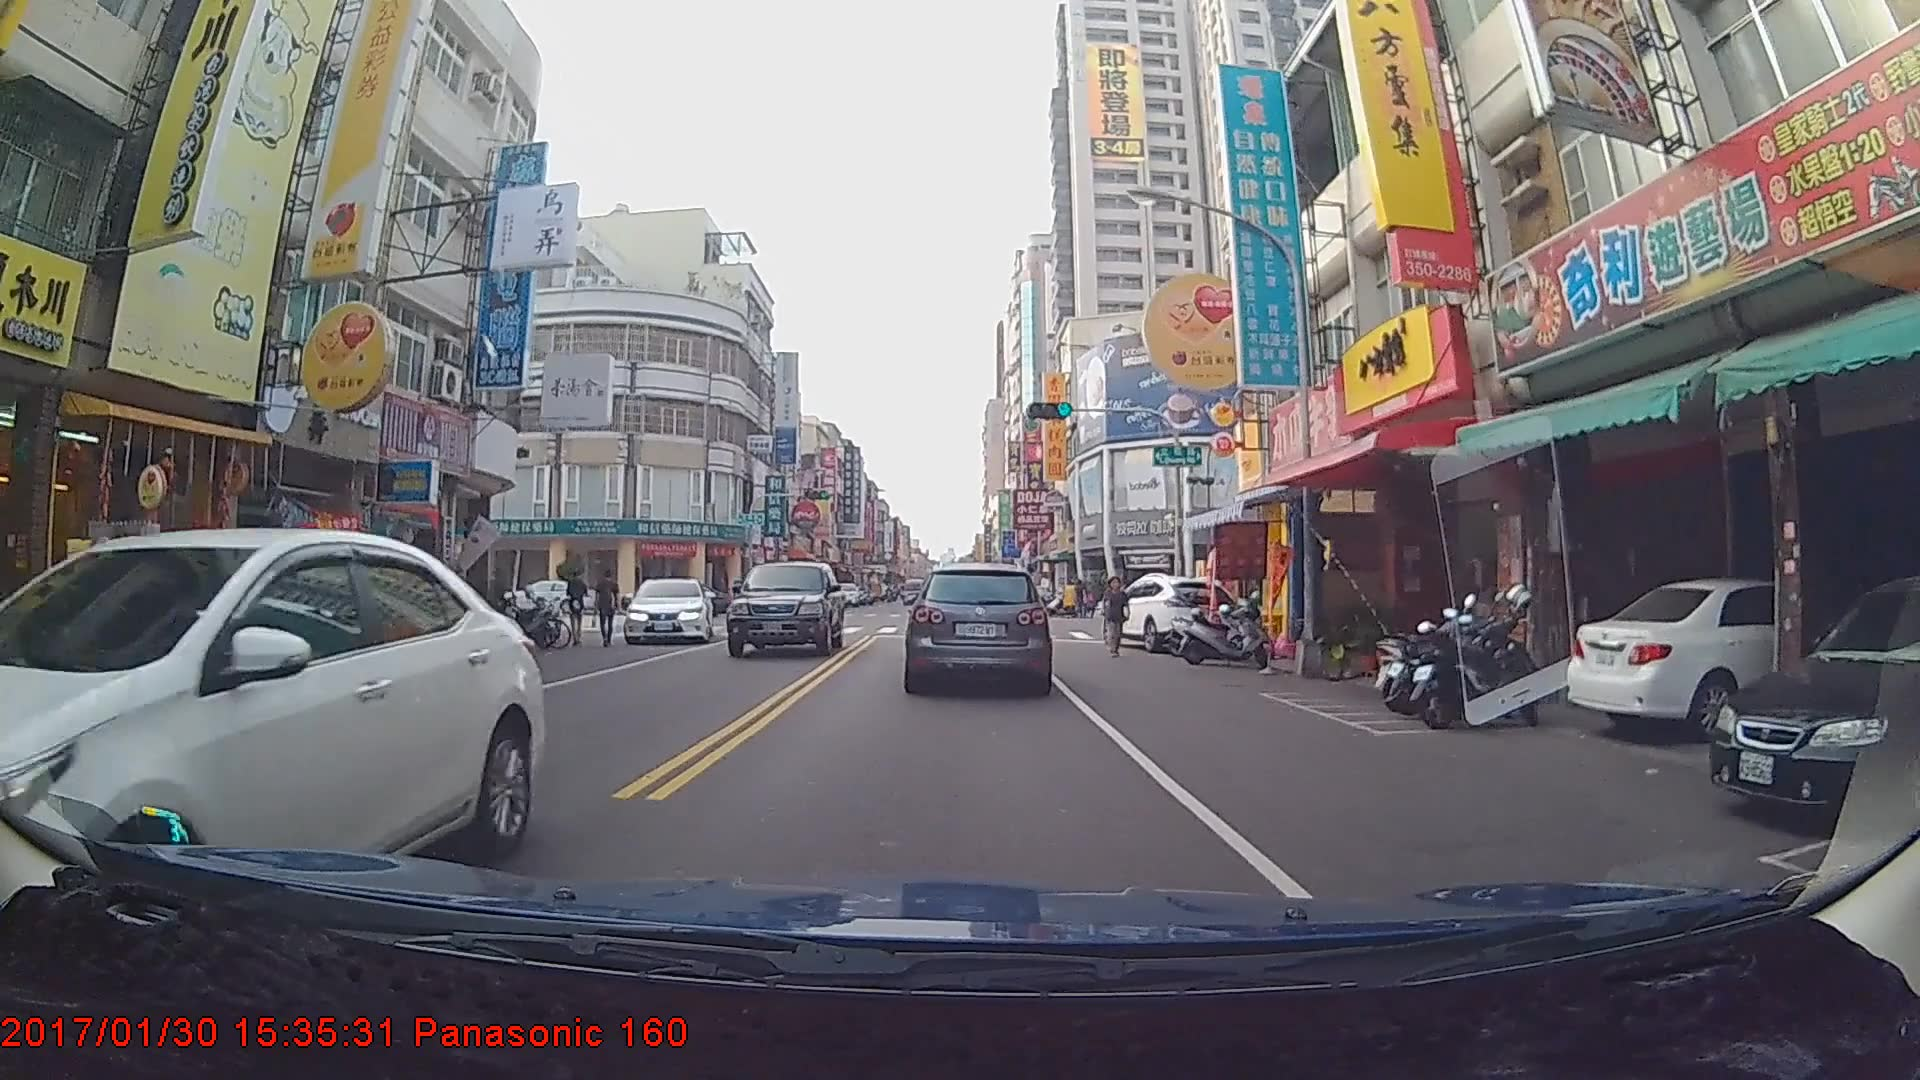pedestrian: (1099, 575, 1130, 656), (594, 567, 623, 642), (565, 569, 589, 646)
vehicle: (0, 523, 536, 957), (1561, 575, 1911, 739), (1705, 571, 1920, 827), (904, 562, 1050, 692), (1095, 573, 1245, 652), (728, 558, 843, 658), (623, 574, 711, 642), (901, 576, 927, 605)
